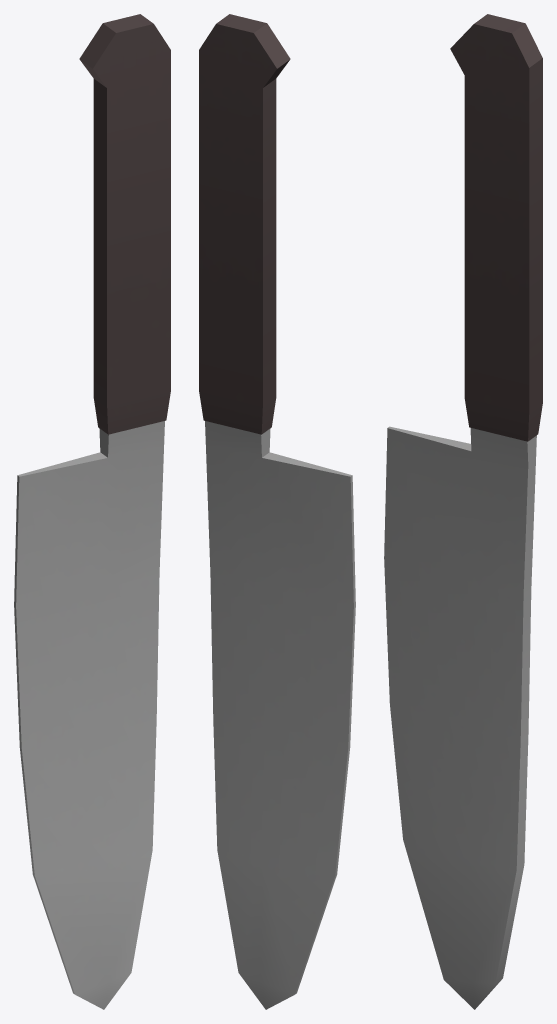
Rendered from Knife_C.fbx.
The picture shows the model from 3 angles, left to right: view 1: azimuth 30°, elevation 25°; view 2: azimuth 150°, elevation 25°; view 3: azimuth 330°, elevation 25°; orthographic projection.
Visible parts, largest first — view 1: Kit_1_Knife_C; view 2: Kit_1_Knife_C; view 3: Kit_1_Knife_C.
Boxes of the visible parts, x1,y1,x2,y2 form: Kit_1_Knife_C: [14, 14, 170, 1009]; Kit_1_Knife_C: [199, 14, 355, 1009]; Kit_1_Knife_C: [384, 14, 542, 1009].
Bounding box in the file's own units: 4 × 25.15 × 0.6279.
